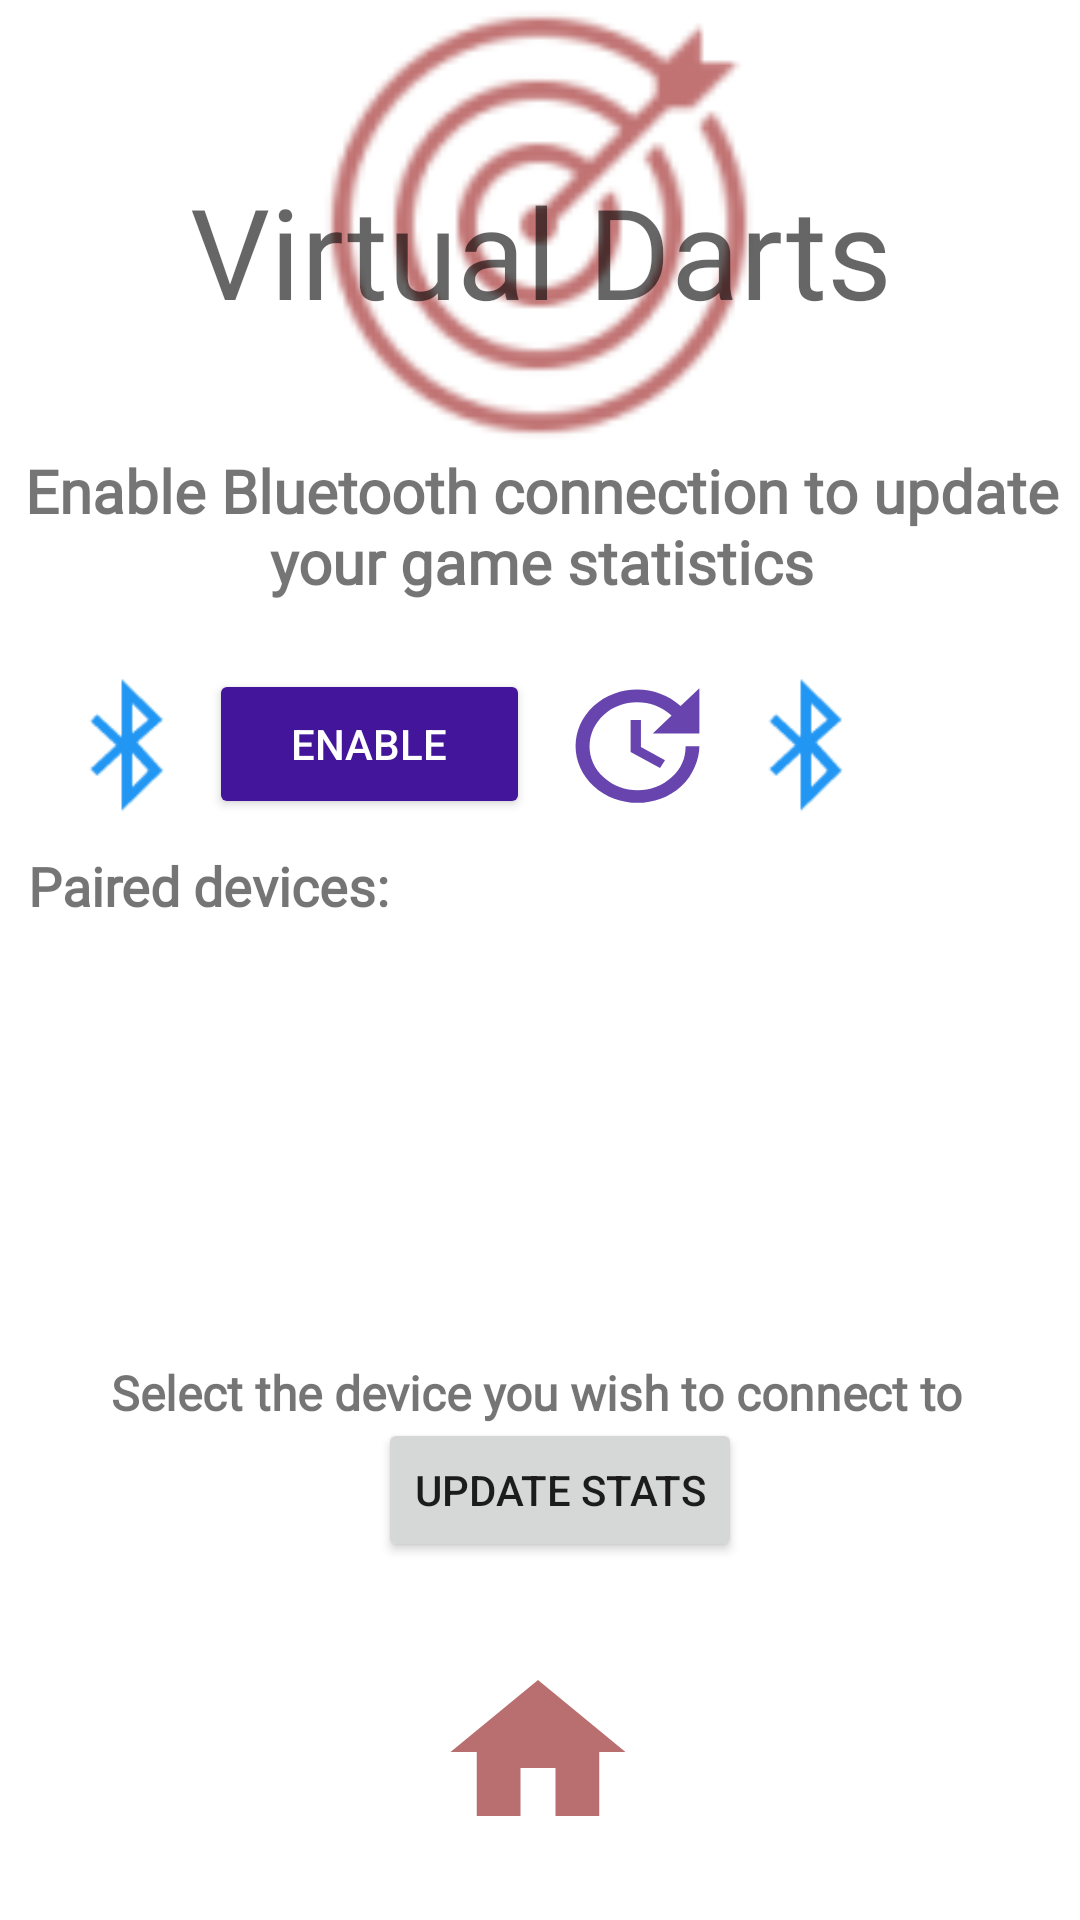

Screen size 1080×1920. Icon name, then its center in pixels as point (x, y):
home: point (538, 1748)
